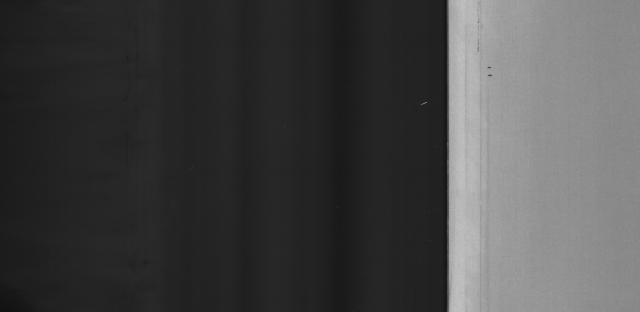inclusion: (481, 59, 496, 83)
